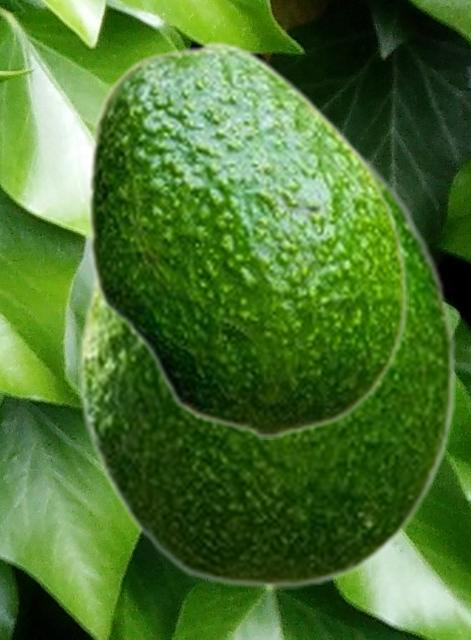avocado: (78, 128, 457, 588), (85, 39, 407, 438)
